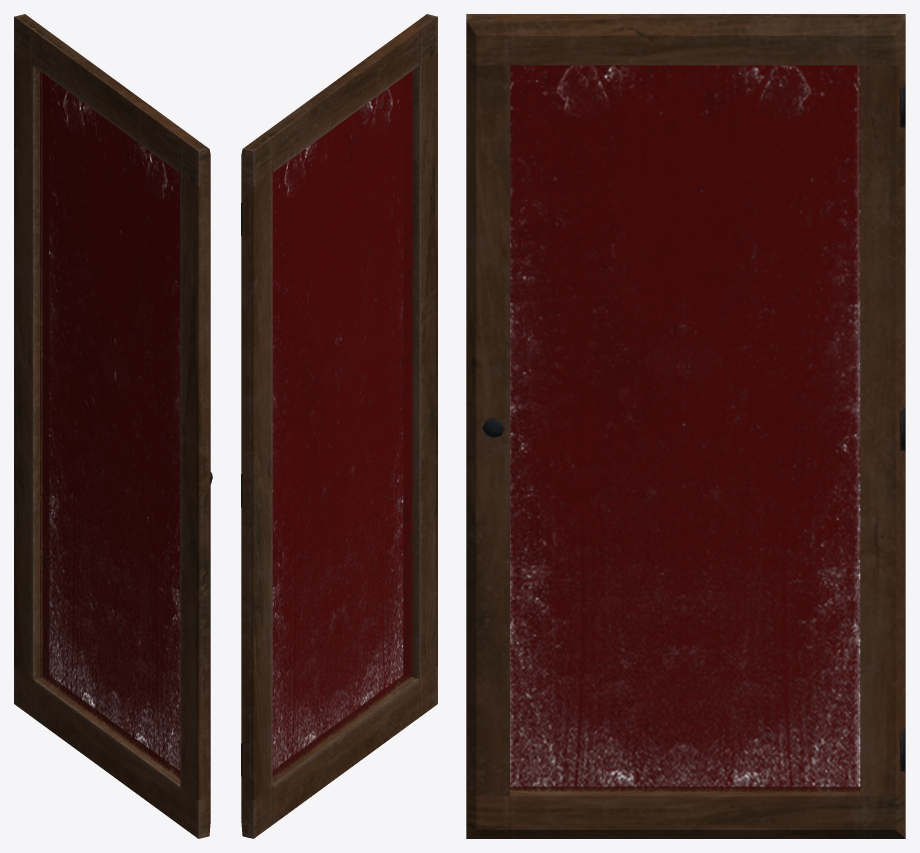
File: SM_RifleCabinetDoorA.FBX
The picture shows the model from 3 angles, left to right: view 1: azimuth 30°, elevation 25°; view 2: azimuth 150°, elevation 25°; view 3: azimuth 270°, elevation 25°; orthographic projection. The views are drawn at different scales.
Parts seen in each view (by area): view 1: SM_RifleCabinetDoorA; view 2: SM_RifleCabinetDoorA; view 3: SM_RifleCabinetDoorA.
Boxes of the visible parts, <box> form: SM_RifleCabinetDoorA: <box>14,14,212,838</box>; SM_RifleCabinetDoorA: <box>241,14,437,838</box>; SM_RifleCabinetDoorA: <box>466,14,905,838</box>.
Size of the model in its own units: 4.39 by 124 by 60.43.
